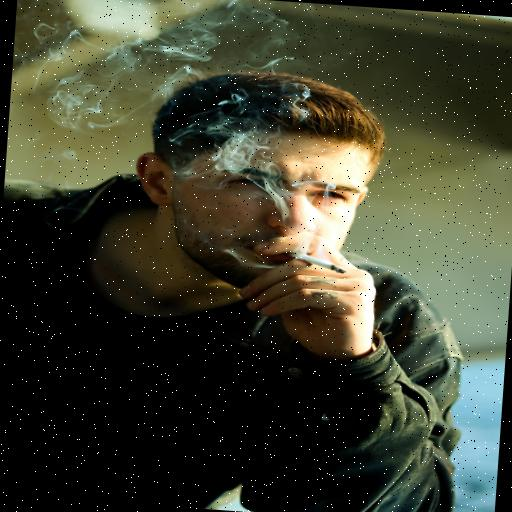terdeteksi merokok: (216, 147, 370, 294)
